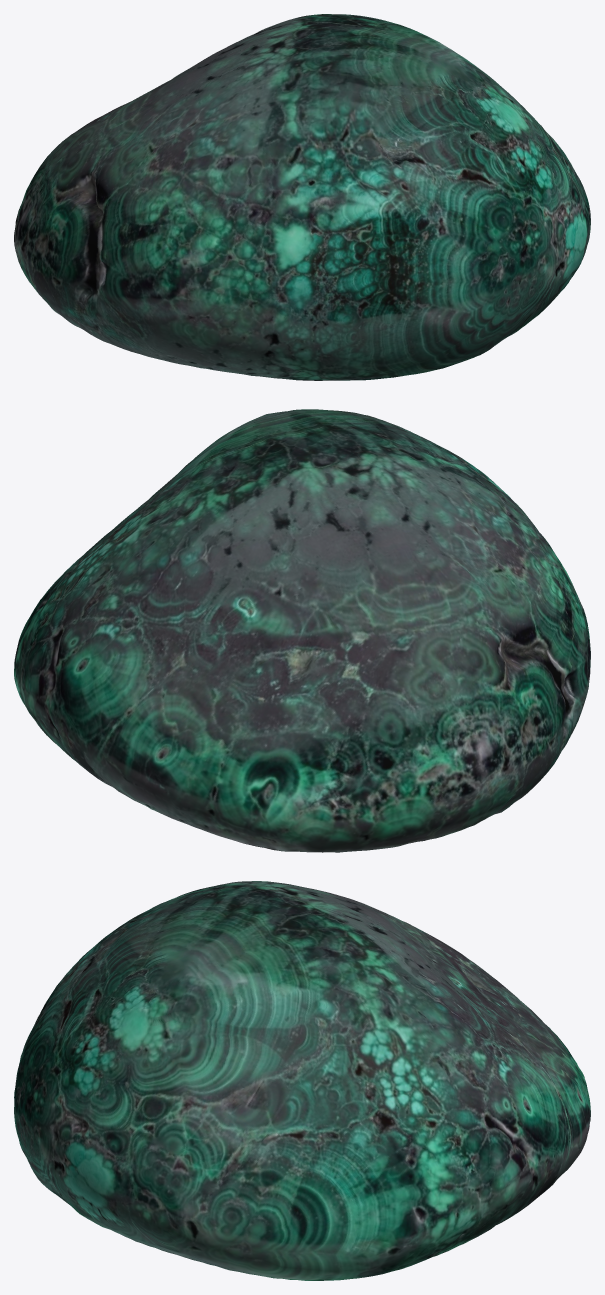
3 renders of one model, top to bottom at view 1: azimuth 30°, elevation 25°; view 2: azimuth 150°, elevation 25°; view 3: azimuth 270°, elevation 25°, orthographic. The views are drawn at different scales.
Parts seen in each view (by area): view 1: RM-0050; view 2: RM-0050; view 3: RM-0050.
Boxes of the visible parts, <box> form: RM-0050: <box>14,14,590,380</box>; RM-0050: <box>14,409,590,852</box>; RM-0050: <box>14,881,590,1280</box>.
Bounding box in the file's own units: 0.0748 × 0.0408 × 0.0744.
Materials: 1 (1 with a texture image).
